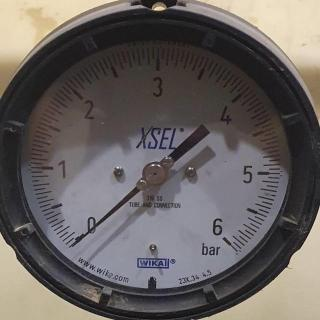gauge: (0, 0, 320, 320), (70, 216, 102, 250), (211, 222, 237, 252), (141, 161, 167, 187), (68, 240, 78, 249)
